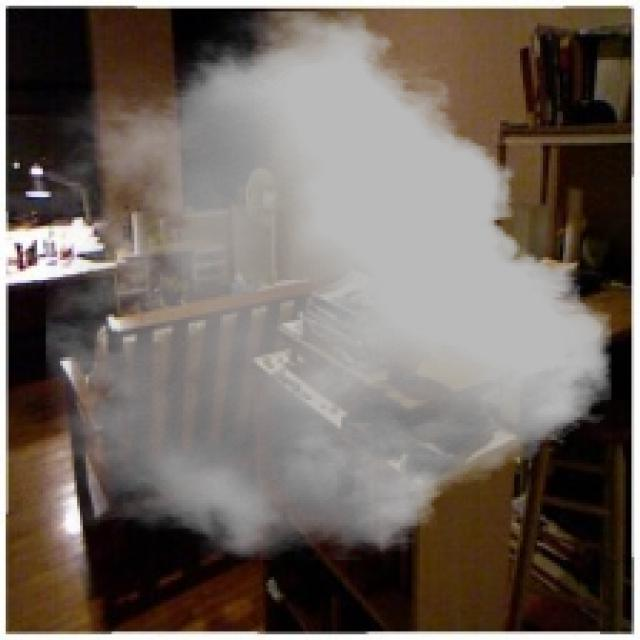smoke: (46, 11, 611, 560)
